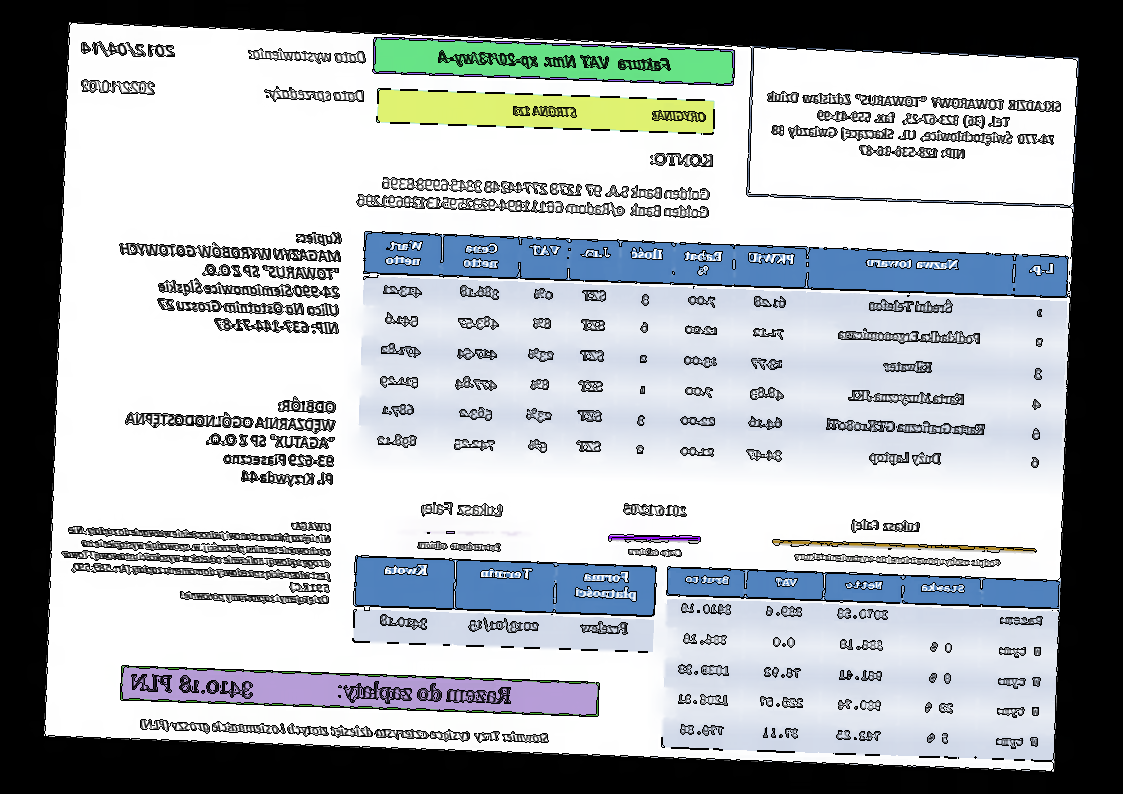Table: (356, 231, 1070, 482), (661, 567, 1060, 761), (351, 554, 658, 653)
TextBox: (115, 222, 344, 335), (59, 512, 333, 606), (762, 88, 1063, 165), (123, 390, 337, 488), (353, 174, 712, 220), (128, 672, 513, 708), (136, 716, 550, 745), (436, 47, 675, 76), (793, 549, 1003, 571), (510, 103, 709, 124), (246, 44, 367, 66), (262, 84, 366, 106), (79, 38, 178, 58), (421, 499, 505, 521), (78, 78, 157, 96), (850, 517, 922, 536), (623, 500, 690, 520), (417, 539, 502, 553), (649, 150, 715, 168), (627, 544, 684, 560)
